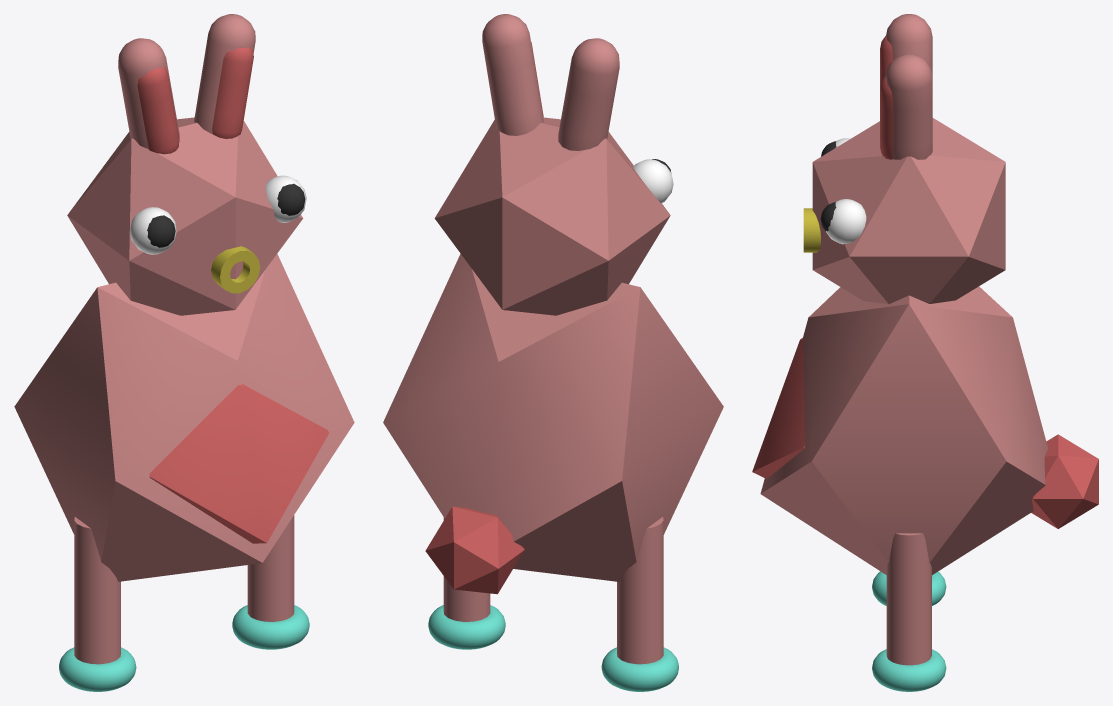
File: catrabbit.fbx
3 renders of one model, left to right at view 1: azimuth 30°, elevation 25°; view 2: azimuth 150°, elevation 25°; view 3: azimuth 270°, elevation 25°, orthographic. The views are drawn at different scales.
Visible parts, largest first — view 1: Tube; view 2: Tube; view 3: Tube.
Boxes of the visible parts, x1=… form: Tube: x1=14, y1=14, x2=354, y2=691; Tube: x1=383, y1=14, x2=723, y2=691; Tube: x1=752, y1=14, x2=1098, y2=691.
Bounding box in the file's own units: 228 × 570 × 296.
